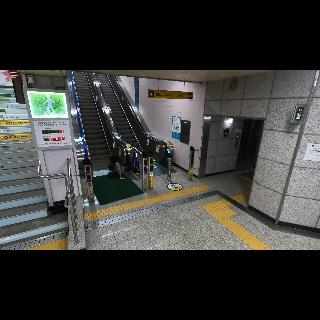anomaly: (105, 153, 127, 183)
